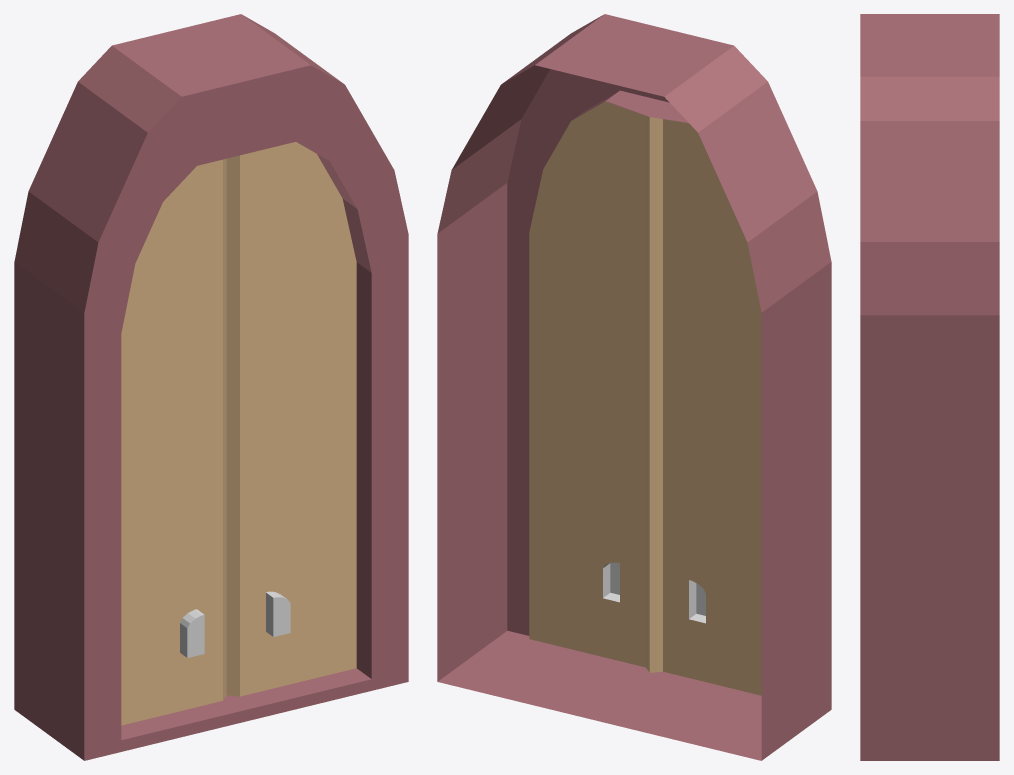
File: Door.fbx
3 views of the same model, side by side, from view 1: azimuth 30°, elevation 25°; view 2: azimuth 150°, elevation 25°; view 3: azimuth 270°, elevation 25° (orthographic).
Parts seen in each view (by area): view 1: Door.001; view 2: Door.001; view 3: Door.001.
Boxes of the visible parts, box(x1,y1,x2,y2) form: Door.001: box(14, 14, 408, 760); Door.001: box(437, 14, 831, 760); Door.001: box(860, 14, 999, 760).
Bounding box in the file's own units: 741 × 1400 × 277.
